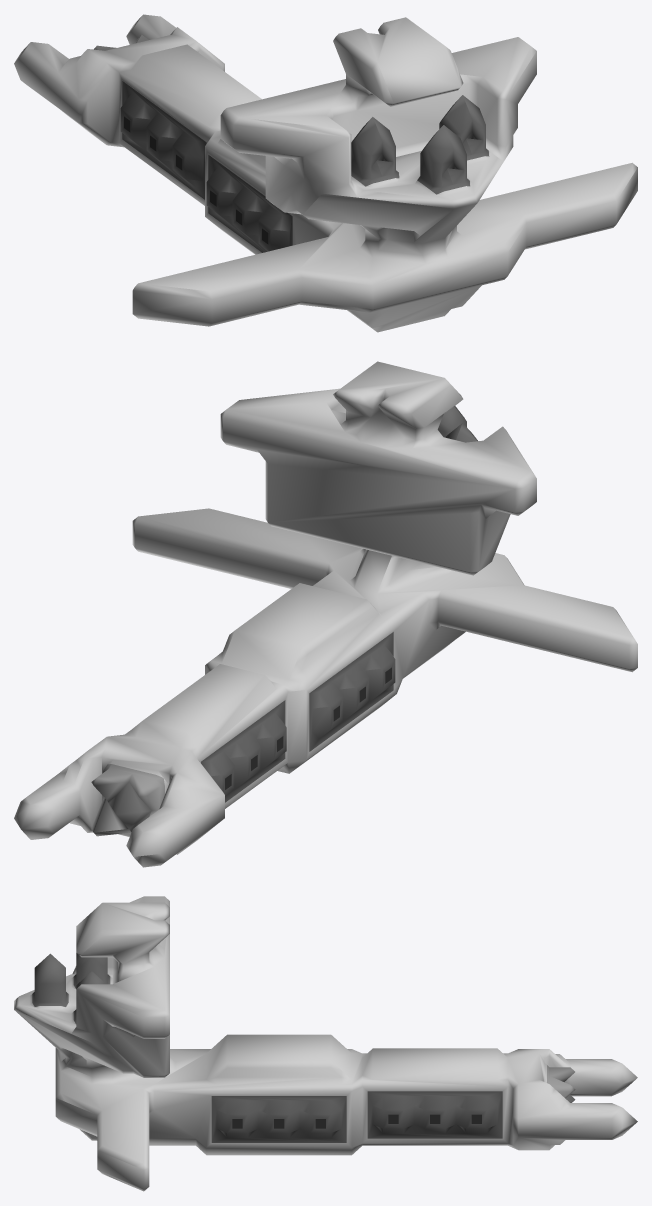
File: fulkreykk-3-lorus-class.obj
3 renders of one model, top to bottom at view 1: azimuth 30°, elevation 25°; view 2: azimuth 150°, elevation 25°; view 3: azimuth 270°, elevation 25°, orthographic. The views are drawn at different scales.
Size of the model in its own units: 45 by 24 by 60.
Materials: 1 (1 with a texture image).
